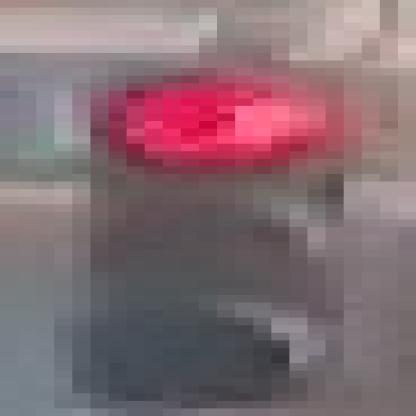Red Light: (86, 65, 352, 407)
